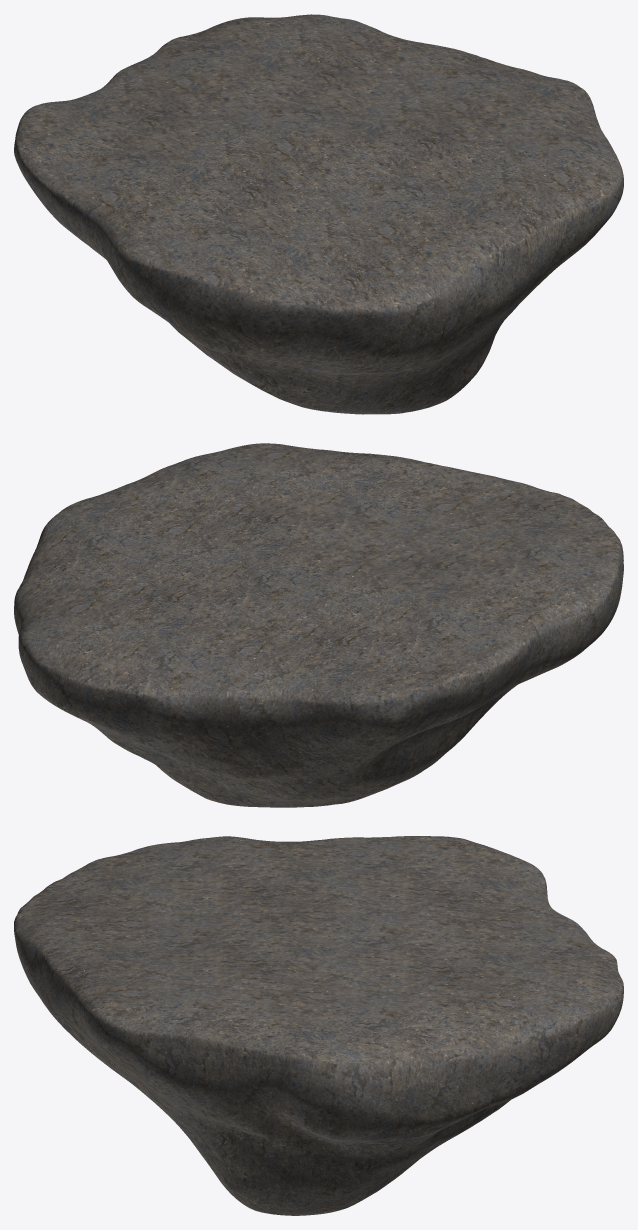
The model's file is island.dae.
3 renders of one model, top to bottom at view 1: azimuth 30°, elevation 25°; view 2: azimuth 150°, elevation 25°; view 3: azimuth 270°, elevation 25°, orthographic. The views are drawn at different scales.
Parts seen in each view (by area): view 1: Cube.001; view 2: Cube.001; view 3: Cube.001.
Boxes of the visible parts, x1,y1,x2,y2 form: Cube.001: [14, 14, 623, 414]; Cube.001: [14, 443, 623, 807]; Cube.001: [14, 836, 623, 1215].
Bounding box in the file's own units: 12.07 × 13.4 × 6.04.
Materials: 1 (1 with a texture image).
